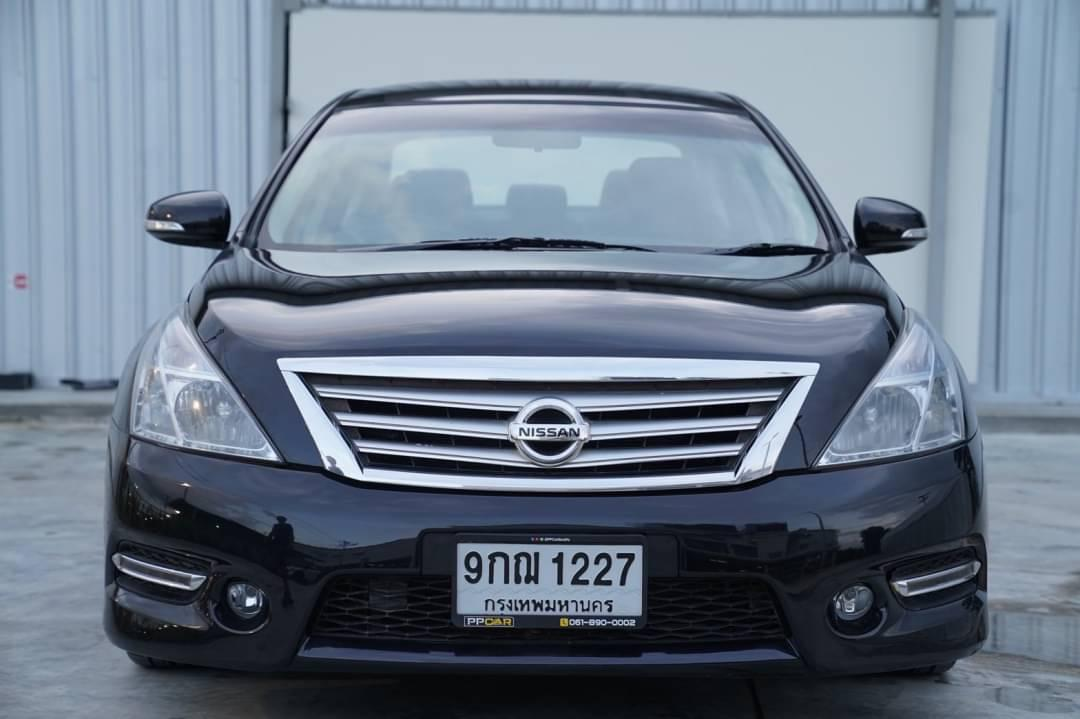license-plate: (448, 531, 650, 627)
